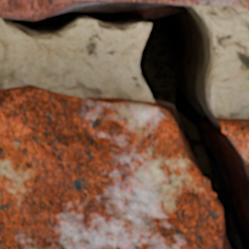brick: (0, 0, 103, 19), (132, 0, 248, 8)
broken_brick: (0, 84, 221, 248), (218, 117, 248, 159)
crack: (2, 0, 248, 248), (241, 132, 248, 134)
